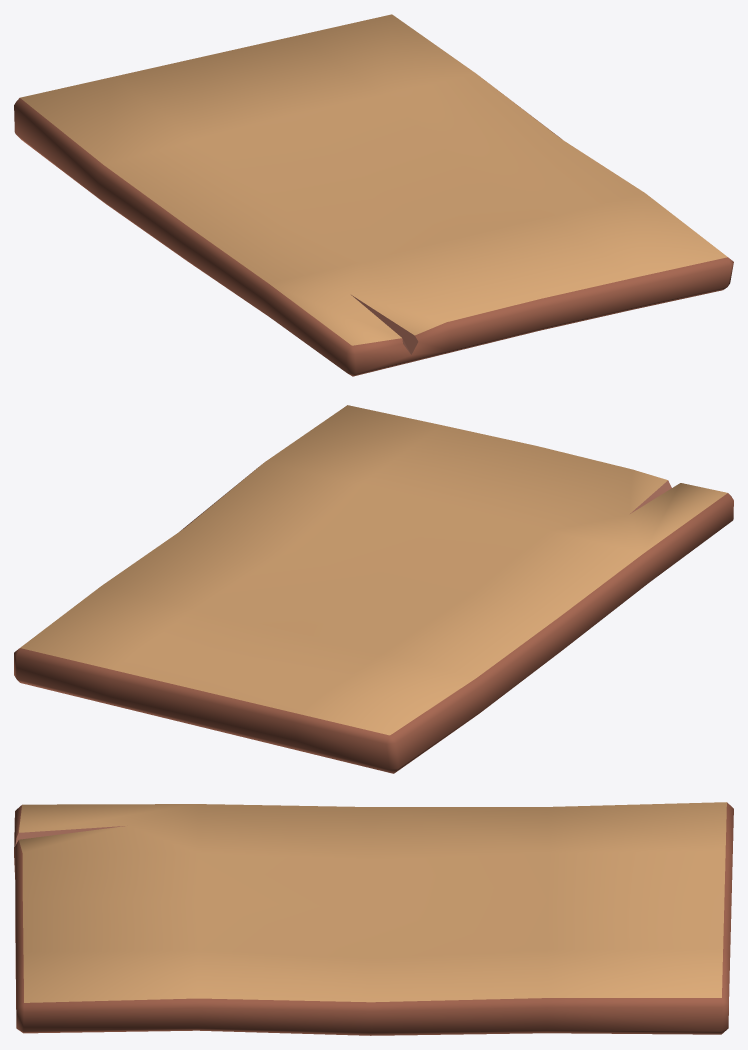
The model's file is woodplank.fbx.
The picture shows the model from 3 angles, top to bottom: view 1: azimuth 30°, elevation 25°; view 2: azimuth 150°, elevation 25°; view 3: azimuth 270°, elevation 25°; orthographic projection. The views are drawn at different scales.
Parts seen in each view (by area): view 1: woodplank; view 2: woodplank; view 3: woodplank.
Part boxes in pixels (bbox=[...]): woodplank: bbox=[14, 14, 733, 376]; woodplank: bbox=[14, 405, 733, 773]; woodplank: bbox=[14, 802, 733, 1035].
Bounding box in the file's own units: 57.91 × 6.58 × 88.07.
